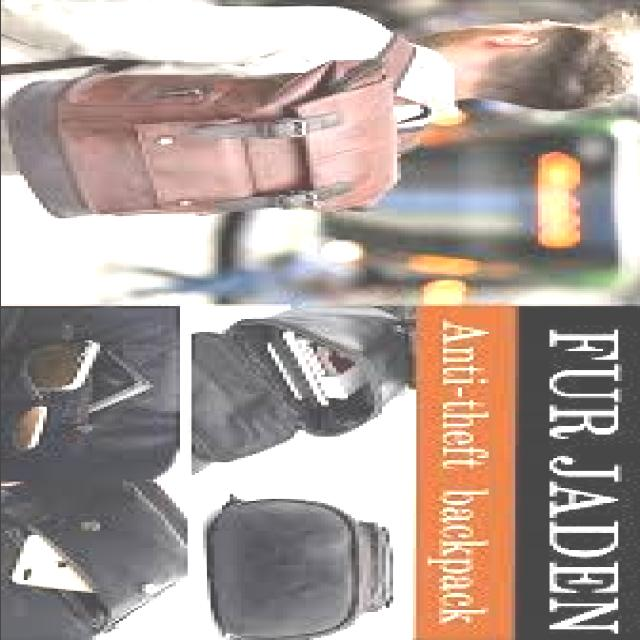backpack: (5, 33, 435, 219), (211, 493, 397, 639)
